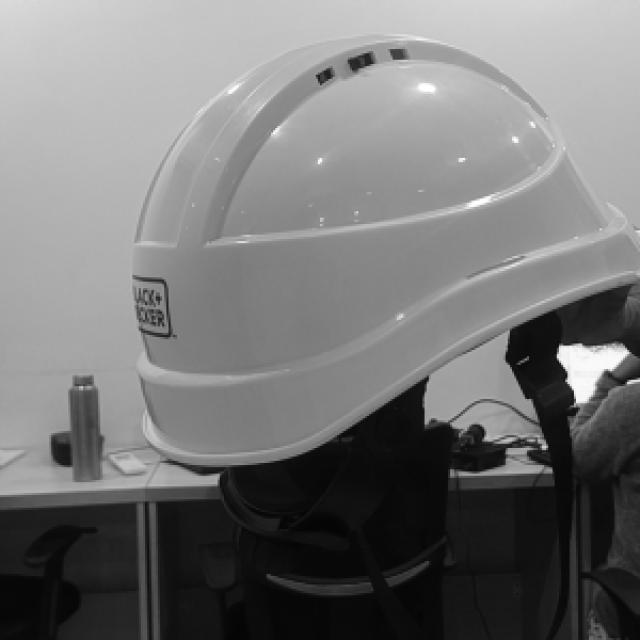safety_helmet: (130, 33, 640, 464)
